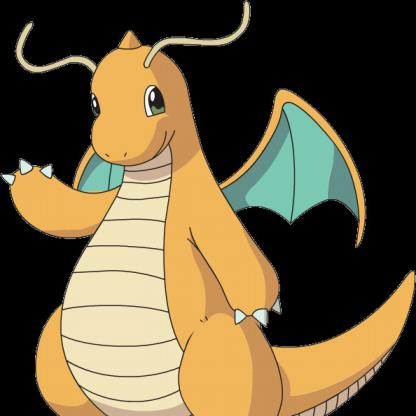Dragonite: (1, 1, 408, 416)
